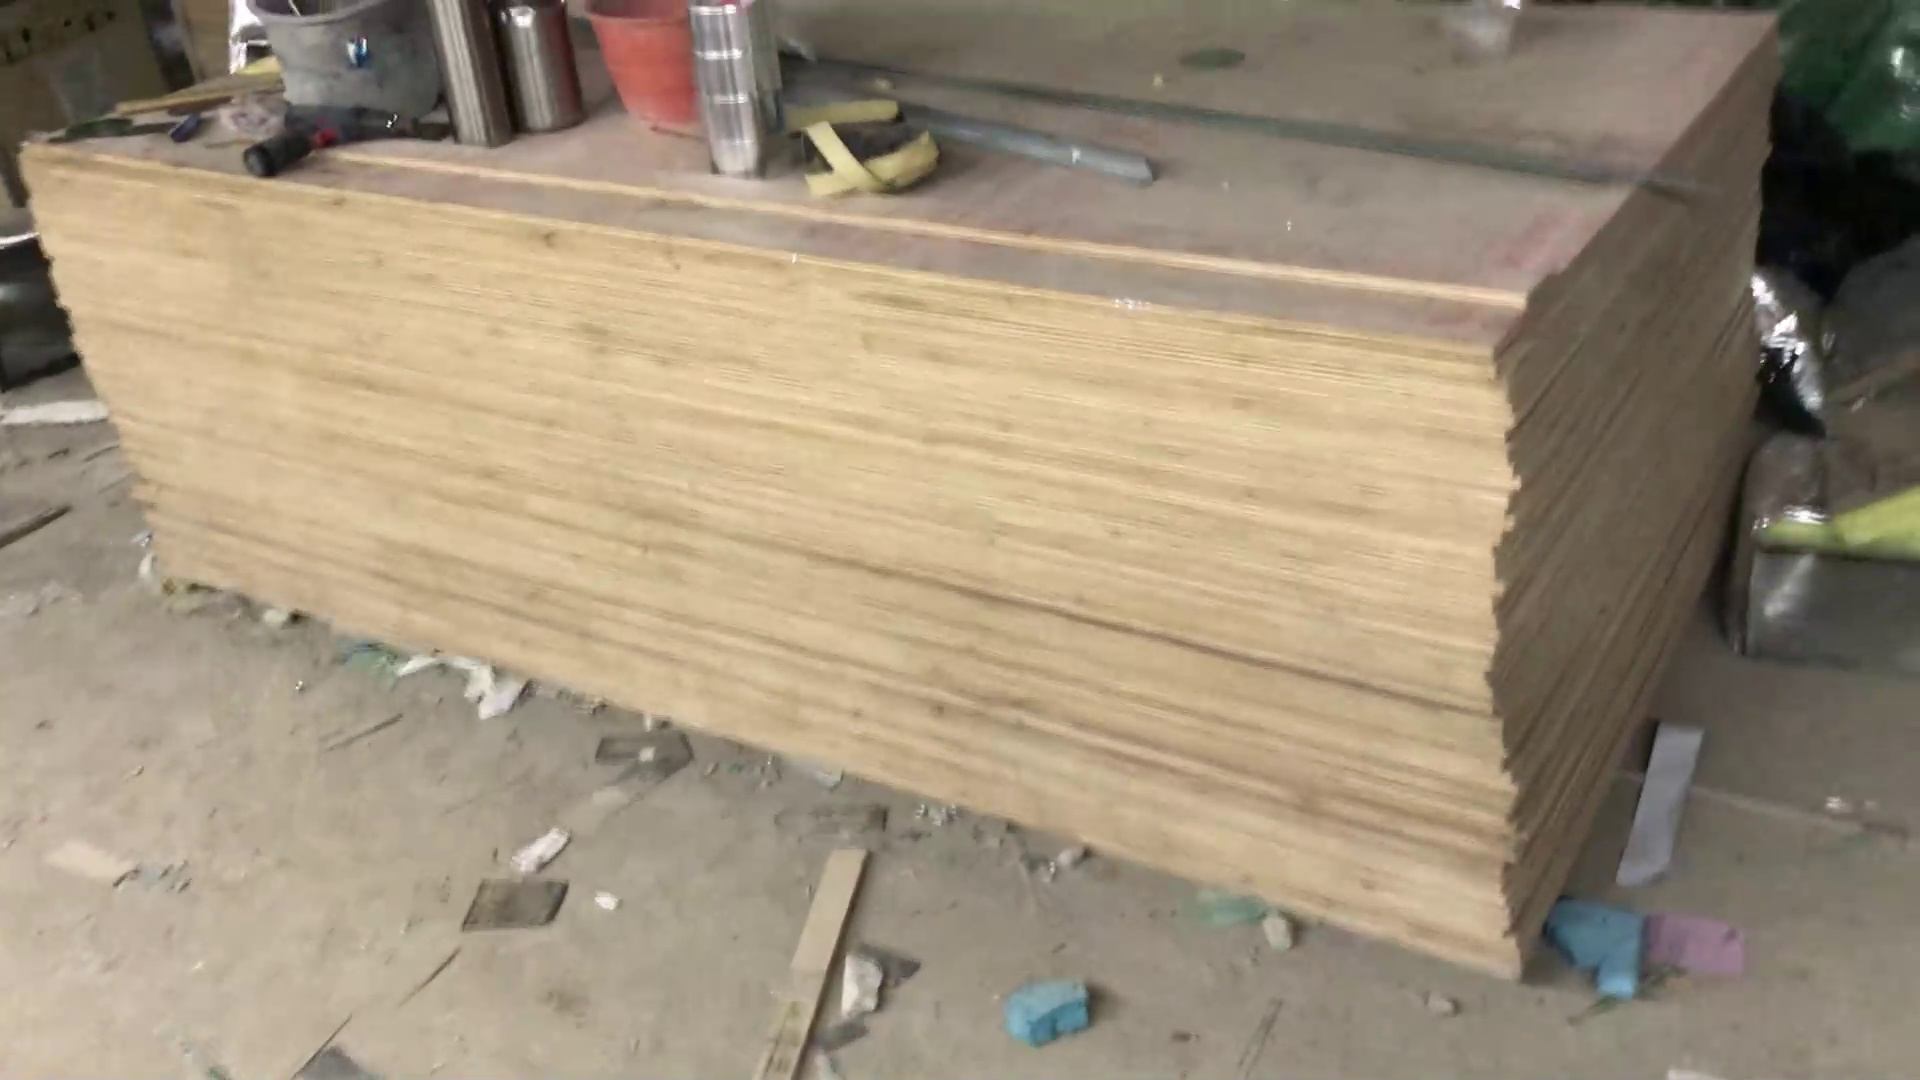board: (5, 1, 1811, 990)
